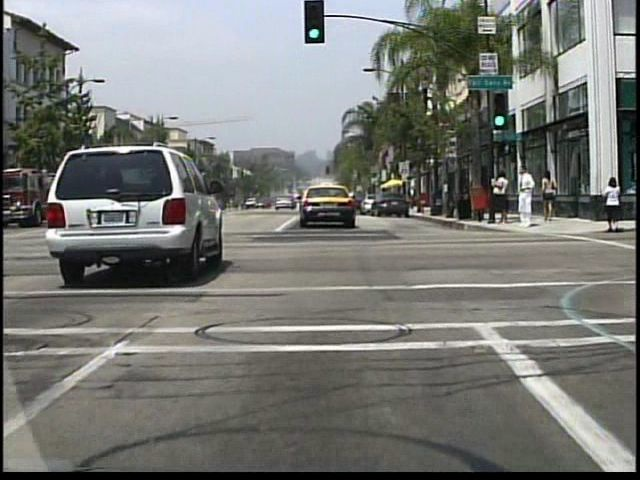person: (515, 167, 535, 229), (601, 176, 621, 234), (540, 170, 558, 224), (494, 169, 510, 229), (407, 188, 417, 214)
